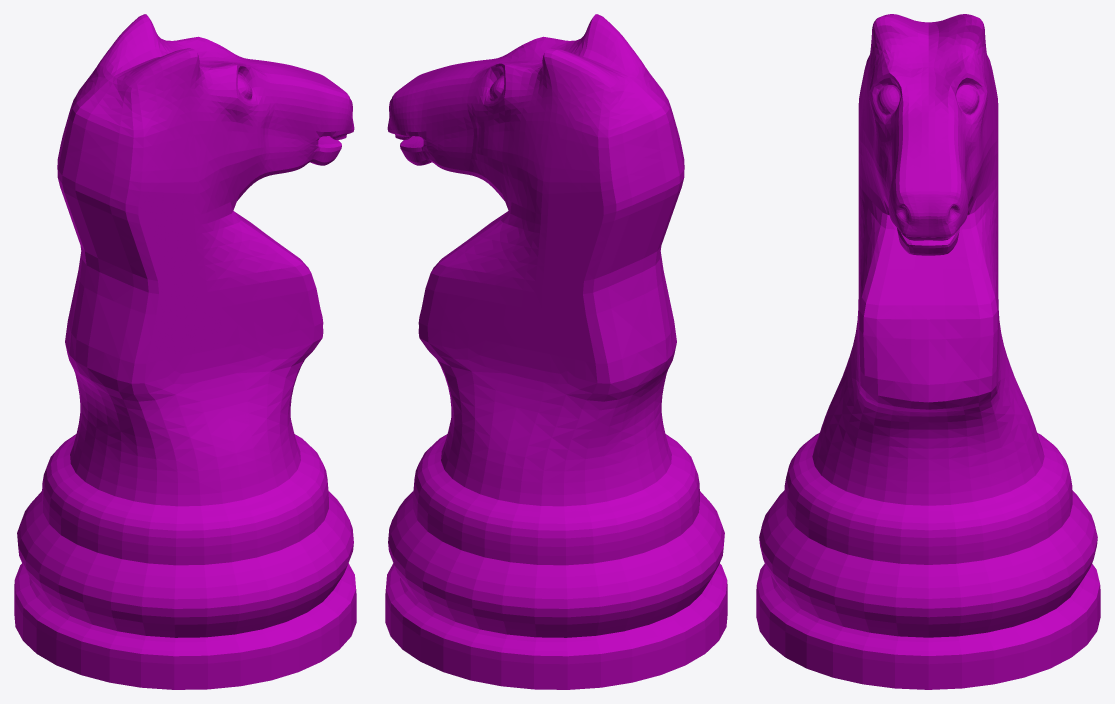
Rendered from knight_black.gltf.
3 renders of one model, left to right at view 1: azimuth 30°, elevation 25°; view 2: azimuth 150°, elevation 25°; view 3: azimuth 270°, elevation 25°, orthographic.
Visible parts, largest first — view 1: Knight.001; view 2: Knight.001; view 3: Knight.001.
Part boxes in pixels (<box>): Knight.001: <box>14,14,356,689</box>; Knight.001: <box>385,14,727,689</box>; Knight.001: <box>756,14,1100,689</box>.
Size of the model in its own units: 0.6197 by 1.13 by 0.5982.
